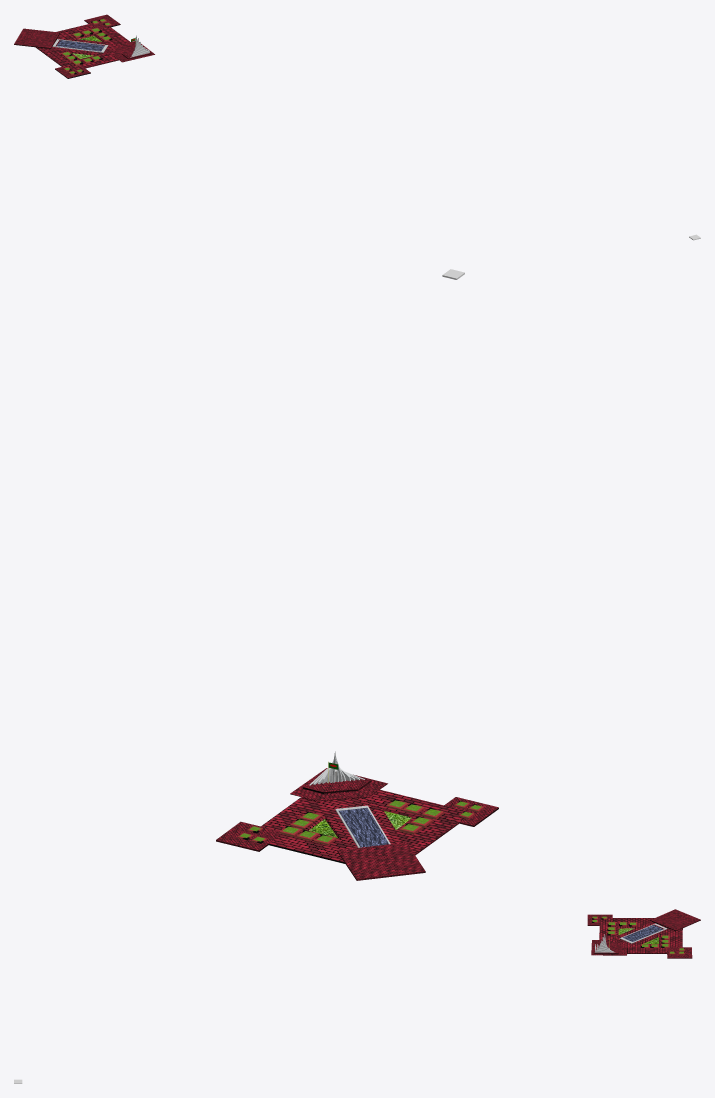
File: smritisoudho34.glb
3 renders of one model, top to bottom at view 1: azimuth 30°, elevation 25°; view 2: azimuth 150°, elevation 25°; view 3: azimuth 270°, elevation 25°, orthographic. The views are drawn at different scales.
Visible parts, largest first — view 1: Cube.016, Cube.026; view 2: Cube.016, Cube.026, Plane.001, Cube.019, Cube.015; view 3: Cube.016, Cube.026, Plane.001.
Boxes of the visible parts, x1,y1,x2,y2 form: Cube.016: [36, 24, 129, 71]; Cube.026: [14, 28, 59, 48]; Cube.016: [261, 790, 472, 863]; Cube.026: [337, 842, 425, 880]; Plane.001: [338, 807, 388, 847]; Cube.019: [216, 821, 281, 851]; Cube.015: [290, 768, 387, 801]; Cube.016: [599, 918, 682, 953]; Cube.026: [650, 909, 700, 931]; Plane.001: [622, 925, 662, 941].
Bounding box in the file's own units: 882 × 89.92 × 1649.
Materials: 71 (51 with a texture image).
